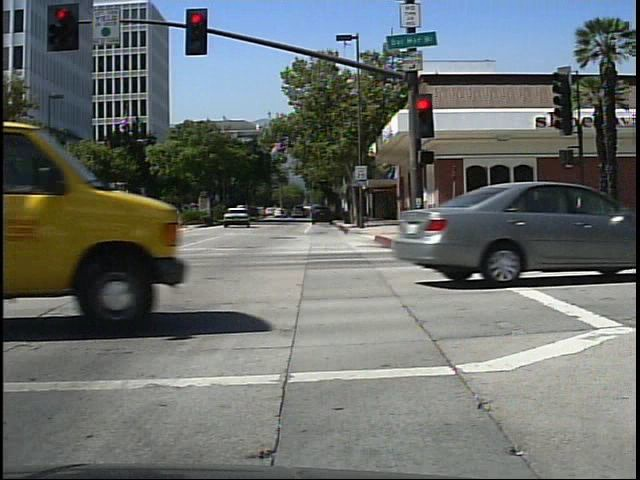person: (277, 204, 290, 222)
